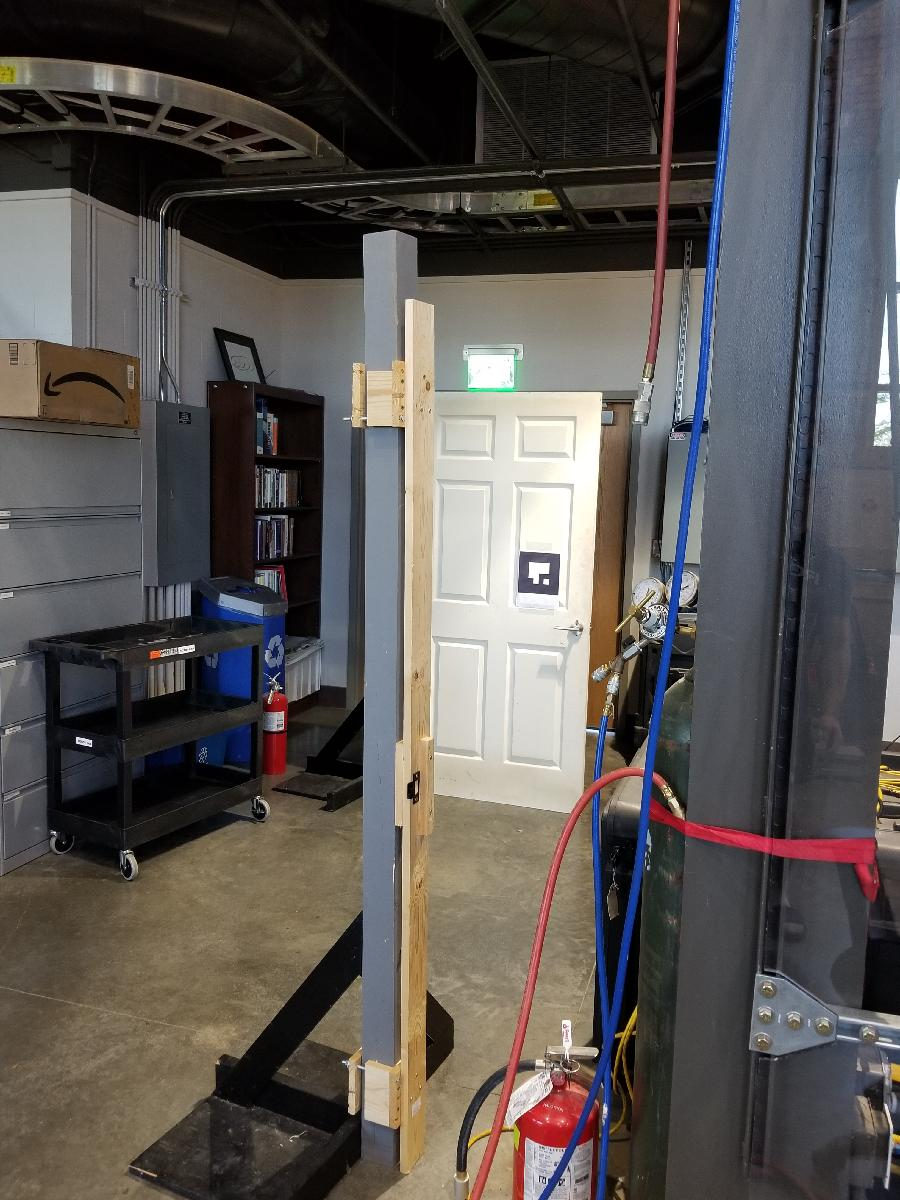door: (409, 387, 605, 823)
doorHandle: (555, 620, 587, 637)
